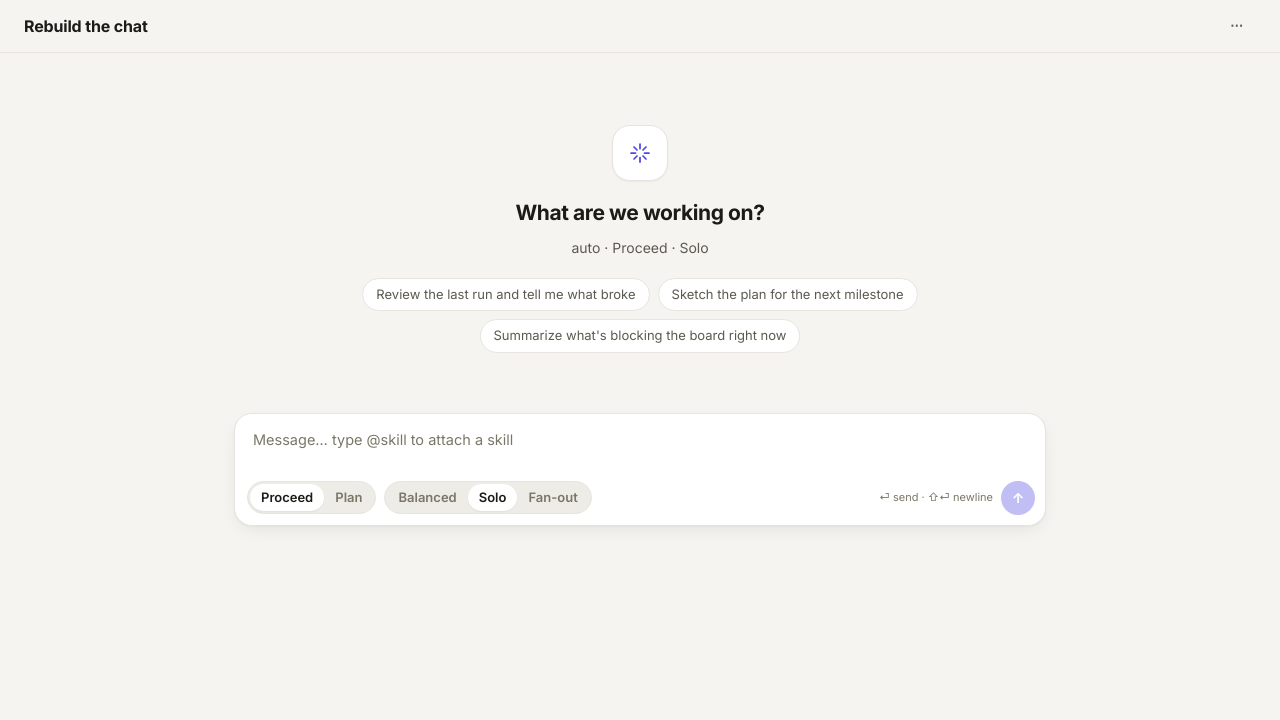
it: ChatSurface — NL assign/propose composer intercept › renders the ASSIGNMENT confirmation for an assign sentence
In the text box: x=640, y=440 top-left (235, 414), bottom-right (1045, 468), type "assign bob fix the login page"
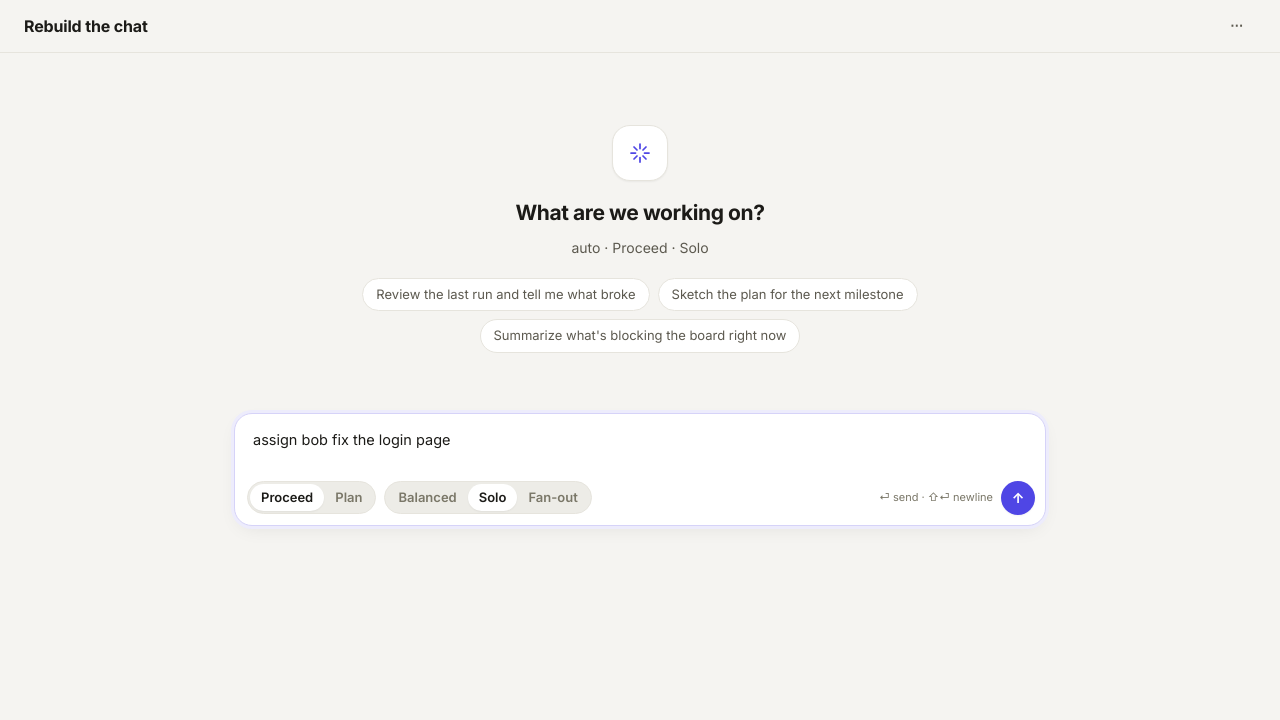
Click the button named "Send": x=1018, y=498 top-left (1001, 480), bottom-right (1035, 514)
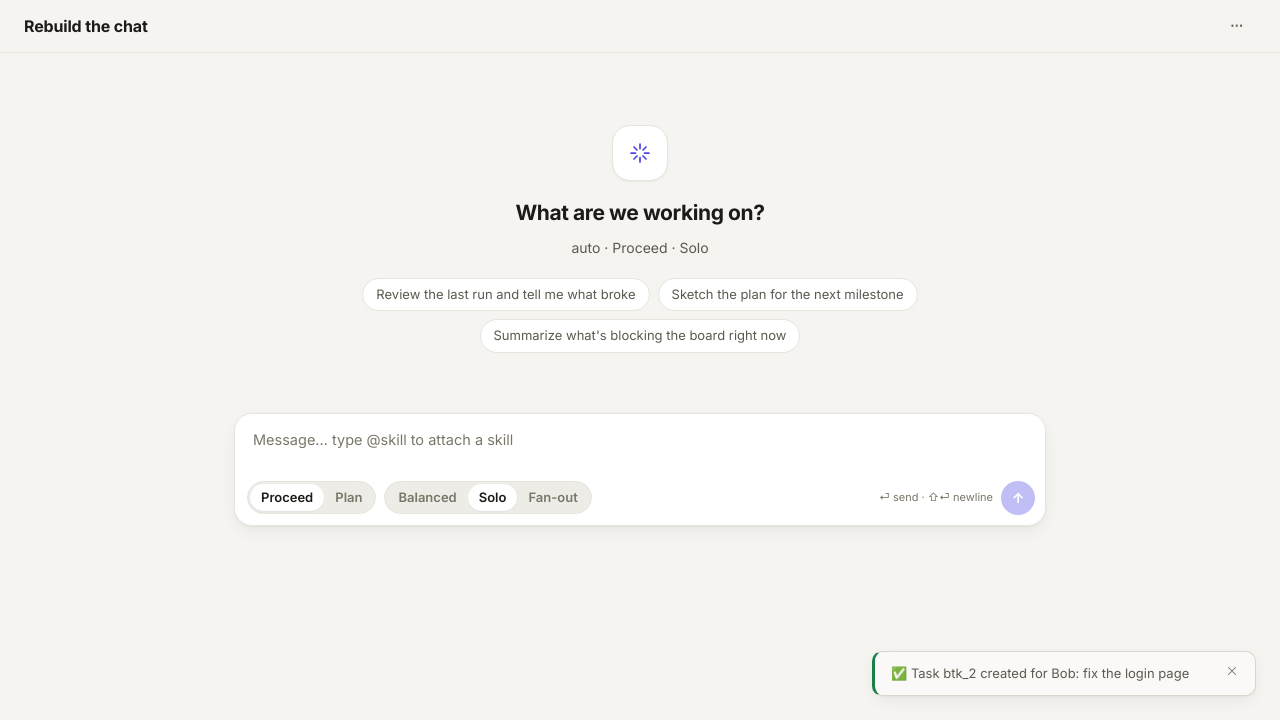
Result: the text "✅ Task btk_2 created for Bob: fix the login page" is shown at top-left (891, 664), bottom-right (1213, 683)
